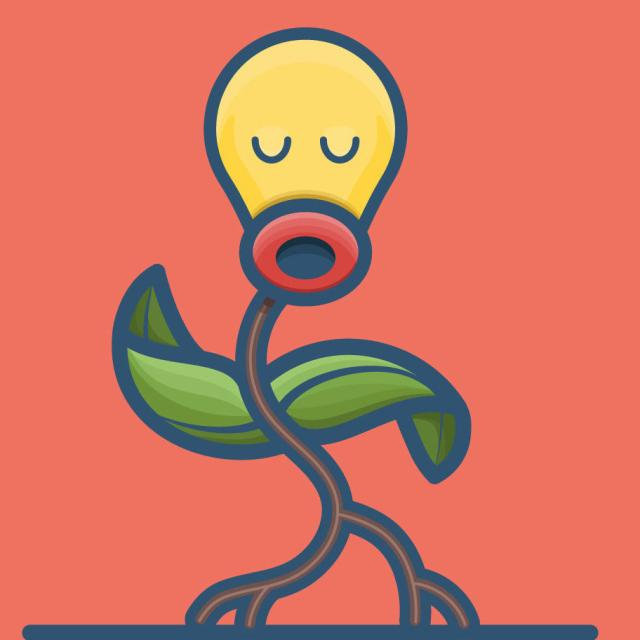Bellsprout: (210, 32, 413, 550)
